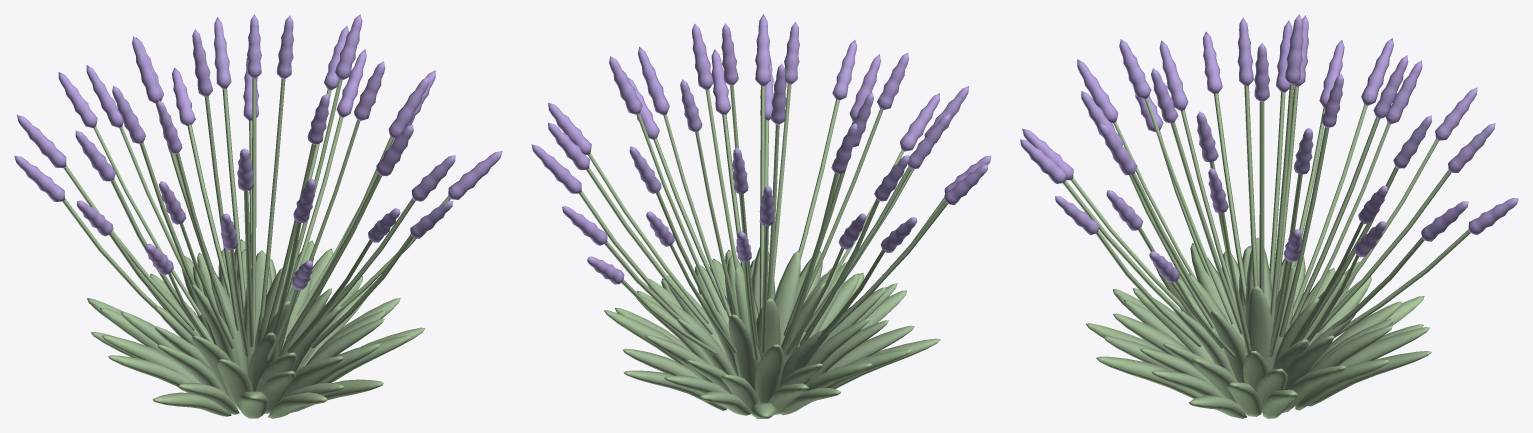
Rendered from lavender-bush.glb.
3 renders of one model, left to right at view 1: azimuth 30°, elevation 25°; view 2: azimuth 150°, elevation 25°; view 3: azimuth 270°, elevation 25°, orthographic. The views are drawn at different scales.
Visible parts, largest first — view 1: lavender-bush_body; view 2: lavender-bush_body; view 3: lavender-bush_body.
Boxes of the visible parts, bbox=[...] form: lavender-bush_body: bbox=[14, 14, 502, 418]; lavender-bush_body: bbox=[531, 14, 991, 418]; lavender-bush_body: bbox=[1020, 14, 1518, 418].
Bounding box in the file's own units: 0.6468 × 0.569 × 0.6906.
1 material, 1 textured.
